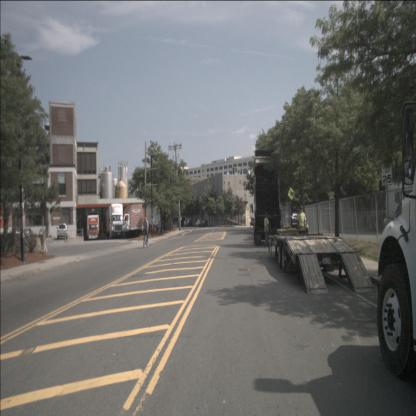vehicle-bicycle: (142, 216, 149, 248)
vehicle-car: (22, 228, 34, 242), (290, 213, 302, 226), (195, 220, 203, 227), (186, 218, 192, 227), (201, 220, 208, 227)
vehicle-truck: (377, 80, 416, 382), (253, 150, 283, 246), (368, 175, 416, 233), (111, 213, 129, 239), (87, 214, 99, 239), (57, 223, 68, 240)
